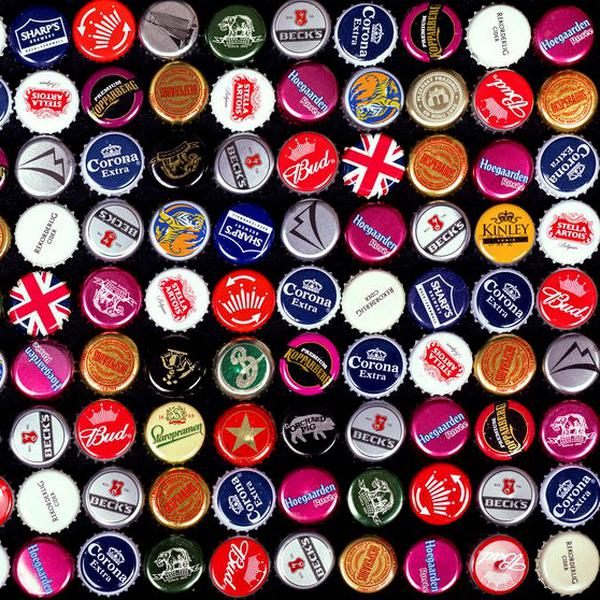corona: (75, 531, 144, 598), (210, 466, 277, 534), (532, 133, 600, 199), (469, 267, 536, 333), (274, 264, 340, 328), (79, 130, 146, 193), (340, 335, 405, 398), (333, 3, 398, 66), (538, 465, 600, 527)
